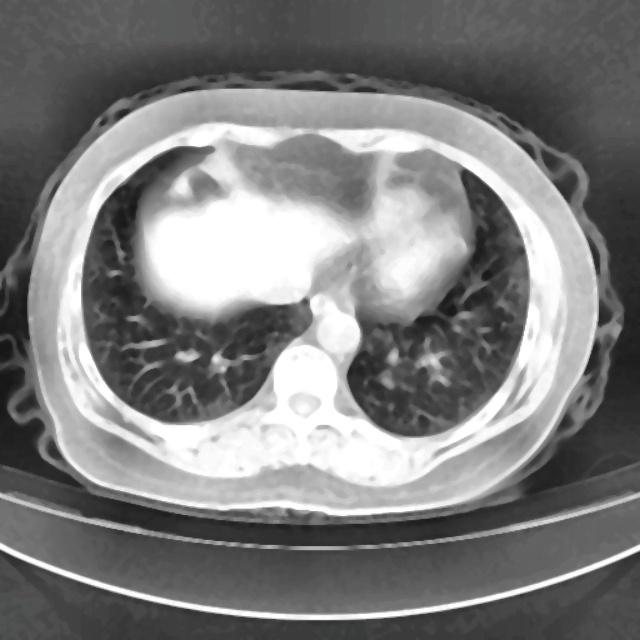covid: (3, 69, 624, 524)
